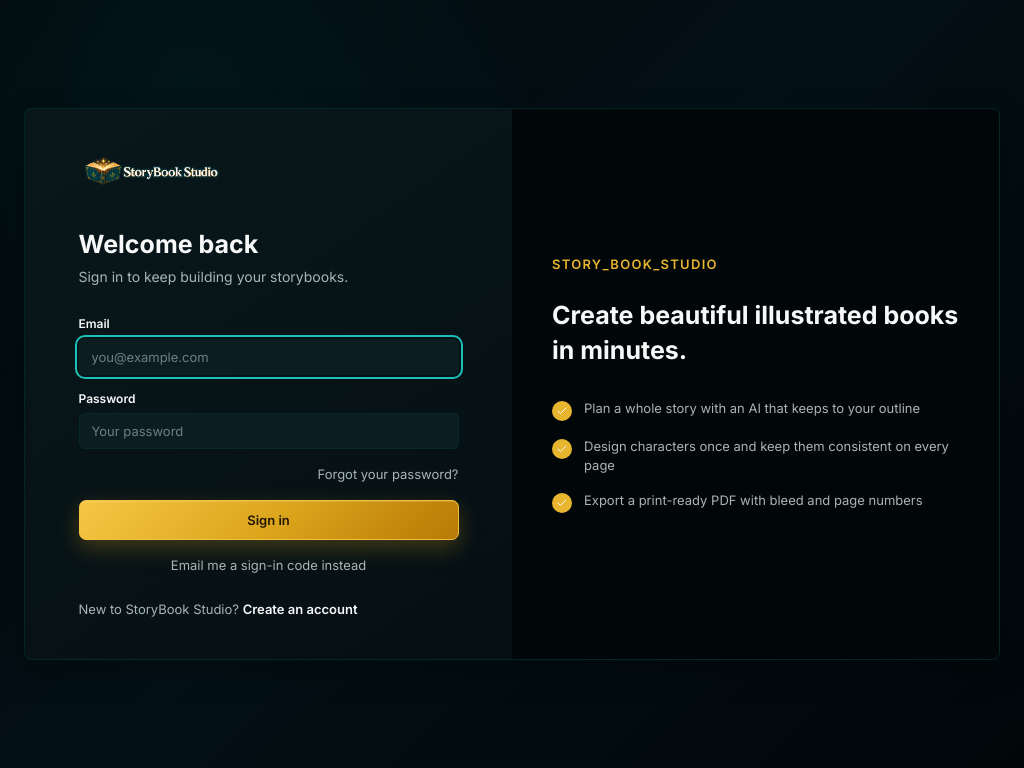
Test: signing in with an emailed code › keeps the reader on the code step when the code is wrong
Click the button "Email me a sign-in code instead".
click(268, 566)  # box [78,556,458,575]
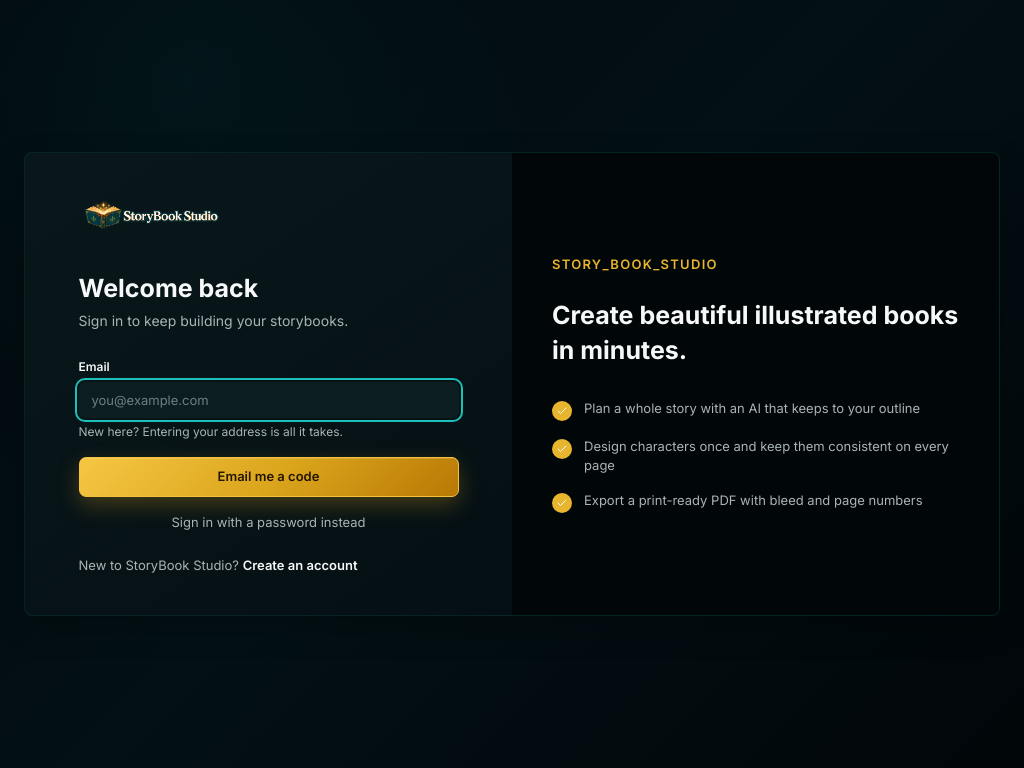
Type "reader@example.com" into the field labelled "Email".
click(268, 400); type("reader@example.com")  # box [78,382,458,418]
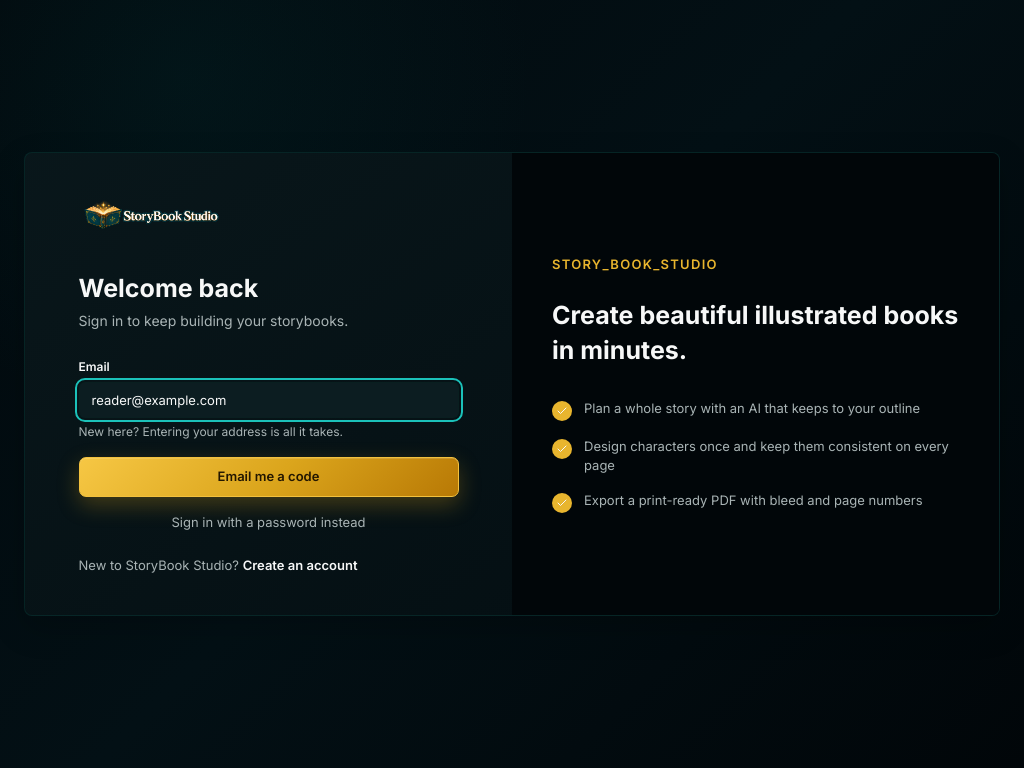
Click the button "Email me a code".
click(268, 477)  # box [78,457,458,497]
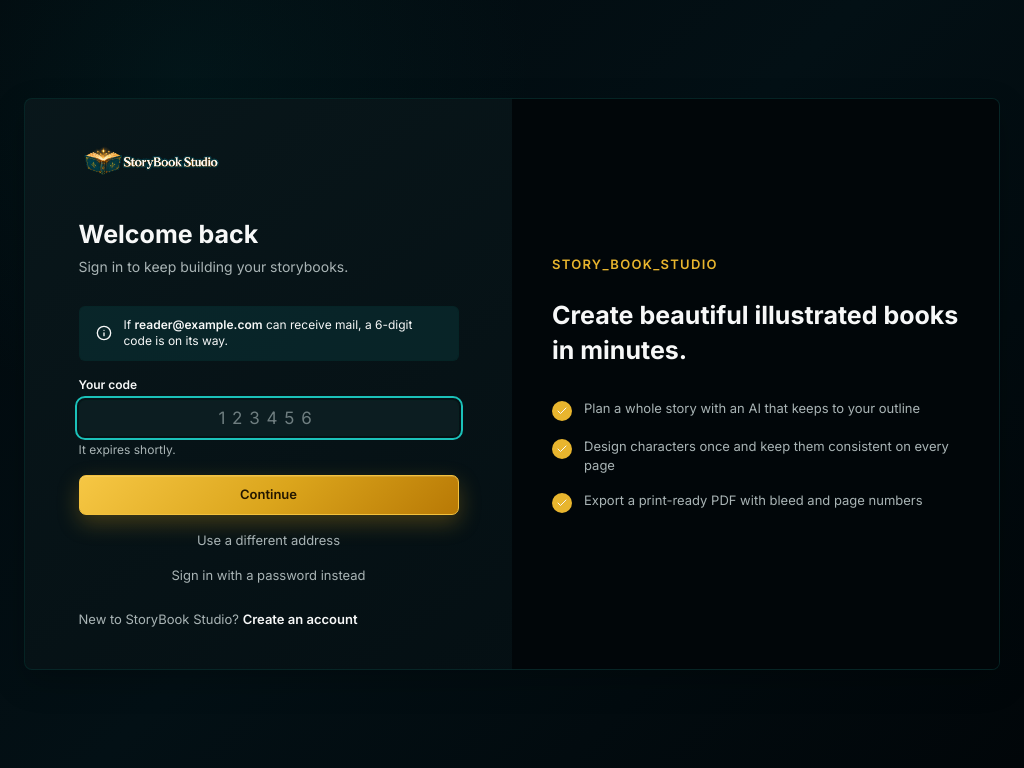
Type "000000" into the field labelled "Your code".
click(268, 418); type("000000")  # box [78,400,458,436]
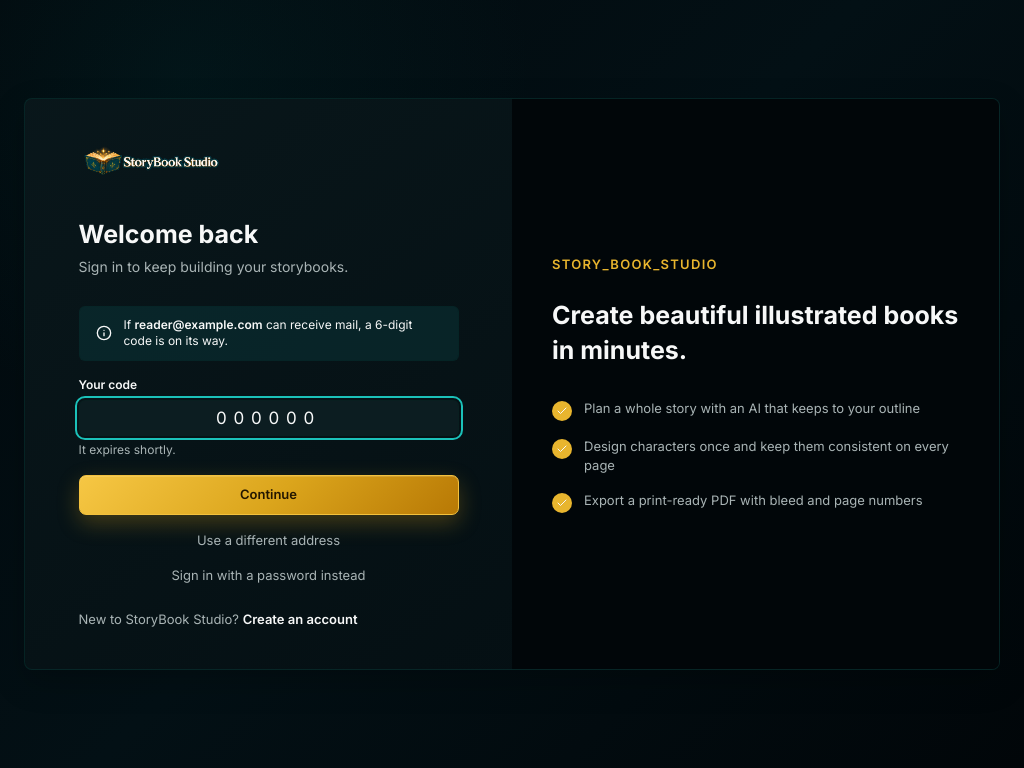
Click the button "Continue".
click(268, 495)  # box [78,475,458,515]
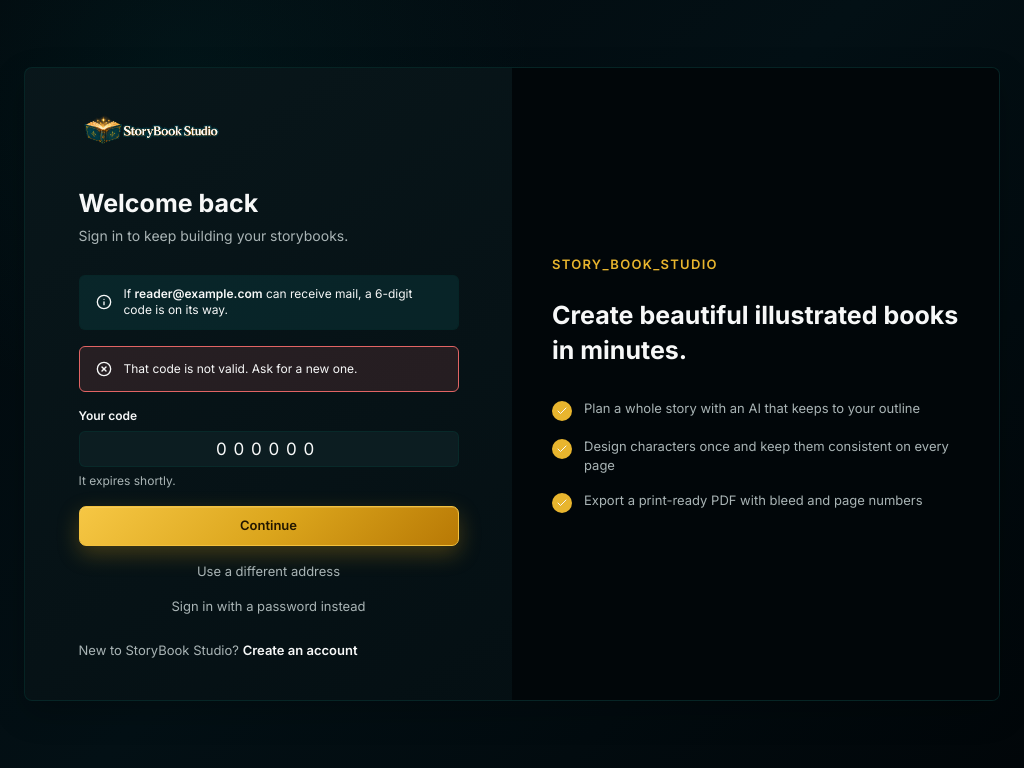
Expected: the text "That code is not valid. Ask for a new one." is shown, [124,361,357,378]
